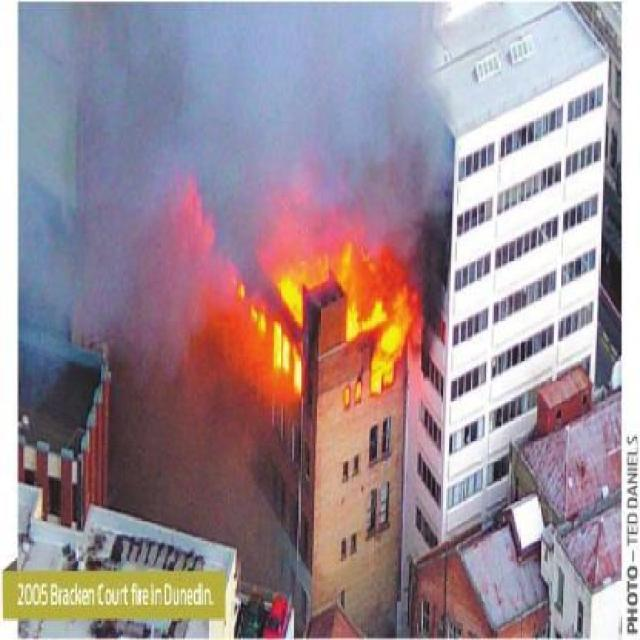Fire: (202, 196, 432, 418)
Smoke: (35, 168, 274, 600), (28, 5, 496, 222)
